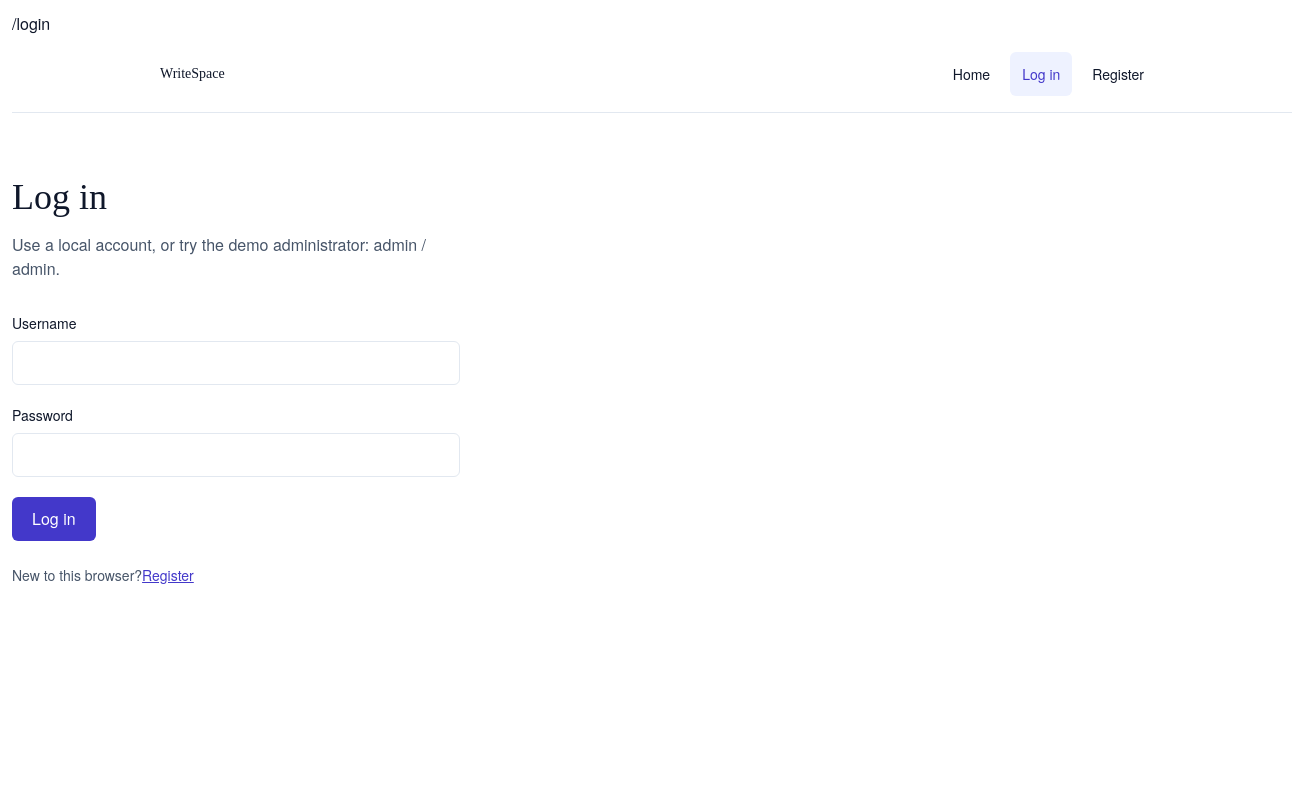
Scenario: auth forms › logs stored user into its confirmed destination
This screenshot has width=1292, height=812.
In the field labelled "Username": (236, 363) [12,341,460,385], type "mira"
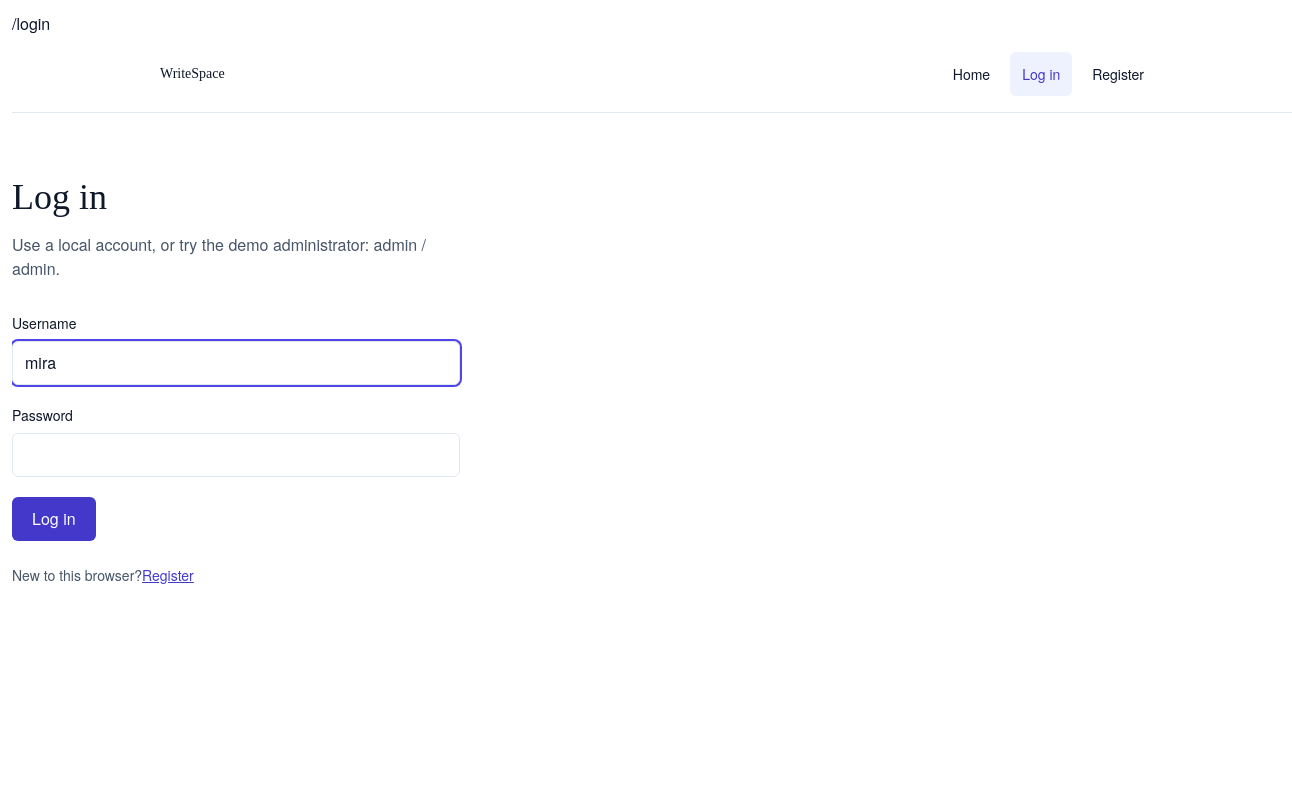
In the password field labelled "Password": (236, 455) [12,433,460,477], type "demo"
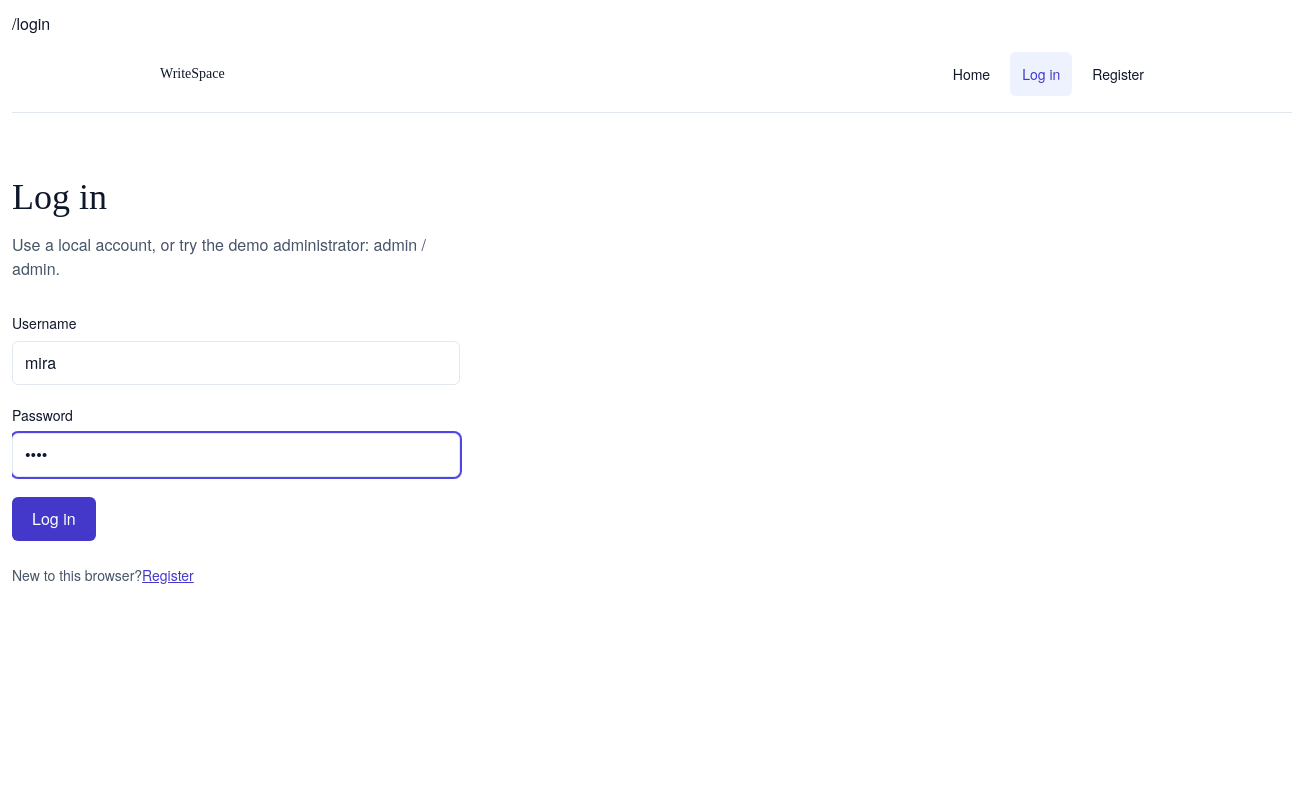
Click the button "Log in": (54, 519) [12,497,96,541]
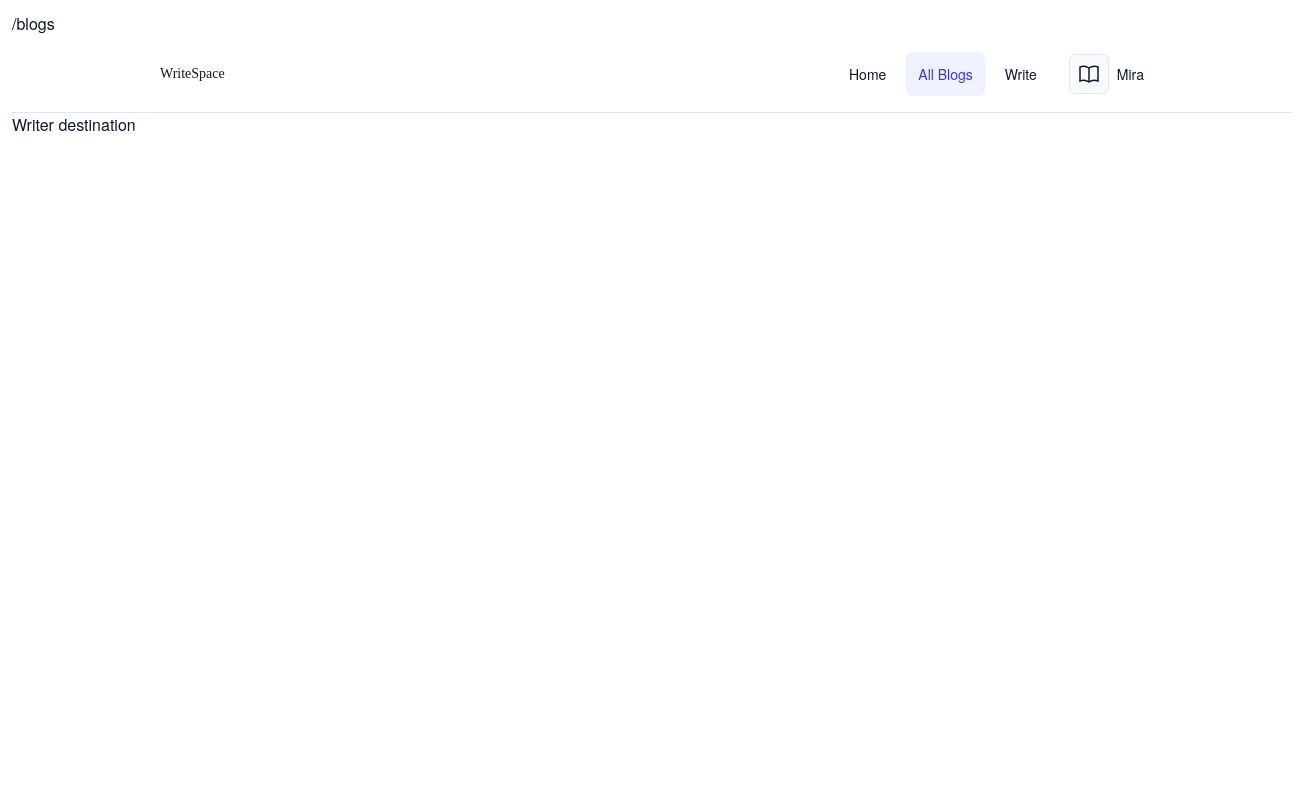
Result: the text "Writer destination" is shown at [12,113,136,136]
